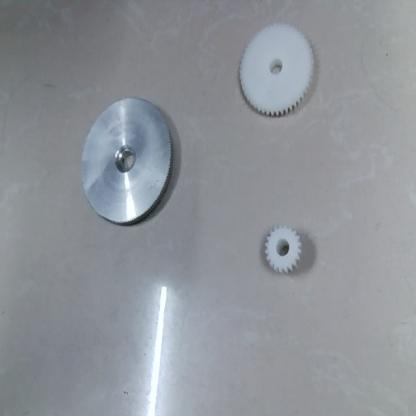FOD: (80, 99, 175, 227), (236, 23, 316, 124), (263, 222, 302, 276)
